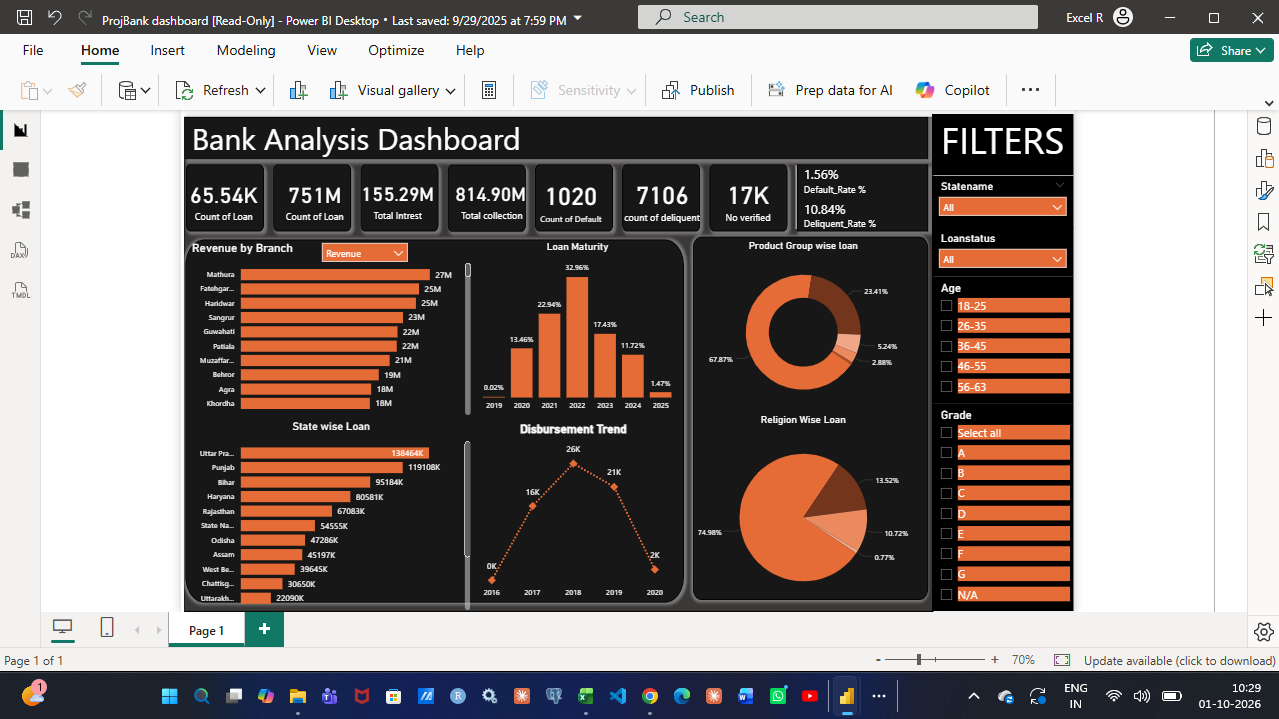

This screenshot's page, from the dashboard's own definition file:
{"tool":"powerbi","page":{"name":"Page 1","canvas":[1280,720],"ordinal":0},"visuals":[{"type":"card","fields":{"Values":["CountNonNull(Bank.Loanamount)"]},"box":[0,69.3,122.6,118.3],"z":0},{"type":"card","fields":{"Values":["Sum(Bank.Loanamount)"]},"box":[132.7,69.3,116.9,118.3],"z":1000},{"type":"card","fields":{"Values":["Sum(Bank.Totalrec_int)"]},"box":[249.6,69.3,122.6,118.3],"z":2000},{"type":"card","fields":{"Values":["Sum(Bank.Totalpymnt)"]},"box":[382.3,69.3,122.6,118.3],"z":3000},{"type":"card","fields":{"Values":["Bank.Count of Default"]},"box":[497.1,70,123.1,118.2],"z":4000},{"type":"card","fields":{"Values":["Bank.count of deliquent"]},"box":[628.4,69.4,123.4,118.2],"z":5000},{"type":"card","fields":{"Values":["Bank.No verified"]},"box":[751.8,69.4,123.4,118.2],"z":6000},{"type":"multiRowCard","fields":{"Values":["Bank.Default Loan Rate %","Bank.Deliquent_Rate %"]},"box":[875.9,74.8,179.8,112.2],"z":7000},{"type":"slicer","fields":{"Values":["Bank.Statename"]},"box":[1077.4,94.1,202.7,74.8],"z":8000},{"type":"slicer","fields":{"Values":["Bank.Loanstatus"]},"box":[1077.4,168.9,202.7,70],"z":9000},{"type":"slicer","fields":{"Values":["Bank.Age "]},"box":[1077.4,238.9,202.7,182.2],"z":10000},{"type":"lineChart","title":"Disbursement Trend ","fields":{"Y":["CountNonNull(Bank.Loanamount)"],"Category":["Bank.Disbursementdate.Variation.Date Hierarchy.Year"]},"box":[417.4,447.6,290.8,261.8],"z":11000},{"type":"barChart","title":"State wise Loan","fields":{"Category":["Bank.Statename"],"Y":["Sum(Bank.Loanamount)"]},"box":[15.7,445.2,399.3,272.7],"z":12000},{"type":"columnChart","title":"Loan Maturity","fields":{"Y":["Sum(Bank.Totalpymnt)"],"Category":["Bank.Loanmaturity.Variation.Date Hierarchy.Year"]},"box":[417.4,188.2,302.8,248.5],"z":13000},{"type":"donutChart","title":"   Product Group wise loan","fields":{"Category":["Bank.Productcategory"],"Y":["CountNonNull(Bank.Loanamount)"]},"box":[720.2,187,345,248.5],"z":14000},{"type":"pieChart","title":"Religion Wise Loan","fields":{"Category":["Bank.Religion"],"Y":["Sum(Bank.Loanamount)"]},"box":[720.2,436.7,345,281.1],"z":15000},{"type":"slicer","fields":{"Values":["Bank.Grade"]},"box":[1077.4,421,202.7,296.8],"z":16000},{"type":"textbox","box":[1077.4,6,202.7,88.1],"z":17000},{"type":"textbox","box":[15.7,12.1,489.8,59.1],"z":18000},{"type":"barChart","fields":{"Y":["Bank.Revenue"],"Category":["Bank.Branchname"]},"box":[15.9,187.6,399.6,249.6],"z":19000},{"type":"slicer","fields":{"Values":["Branchwise.Branchwise"]},"box":[191.9,180.3,142.8,46.2],"z":20000}]}

Visuals, with their boxes on the page's 1280x720 design canvas (x1, y1, x2, y2). These are canvas units, not pixel positions in the 1279x719 screenshot, which may show the page scaled, cropped or inside an application window:
card - CountNonNull(Bank.Loanamount): (0,69,123,188)
card - Sum(Bank.Loanamount): (133,69,250,188)
card - Sum(Bank.Totalrec_int): (250,69,372,188)
card - Sum(Bank.Totalpymnt): (382,69,505,188)
card - Bank.Count of Default: (497,70,620,188)
card - Bank.count of deliquent: (628,69,752,188)
card - Bank.No verified: (752,69,875,188)
multiRowCard - Bank.Default Loan Rate % x Bank.Deliquent_Rate %: (876,75,1056,187)
slicer - Bank.Statename: (1077,94,1280,169)
slicer - Bank.Loanstatus: (1077,169,1280,239)
slicer - Bank.Age : (1077,239,1280,421)
"Disbursement Trend " lineChart: (417,448,708,709)
"State wise Loan" barChart: (16,445,415,718)
"Loan Maturity" columnChart: (417,188,720,437)
"   Product Group wise loan" donutChart: (720,187,1065,436)
"Religion Wise Loan" pieChart: (720,437,1065,718)
slicer - Bank.Grade: (1077,421,1280,718)
textbox: (1077,6,1280,94)
textbox: (16,12,506,71)
barChart - Bank.Revenue x Bank.Branchname: (16,188,416,437)
slicer - Branchwise.Branchwise: (192,180,335,226)
